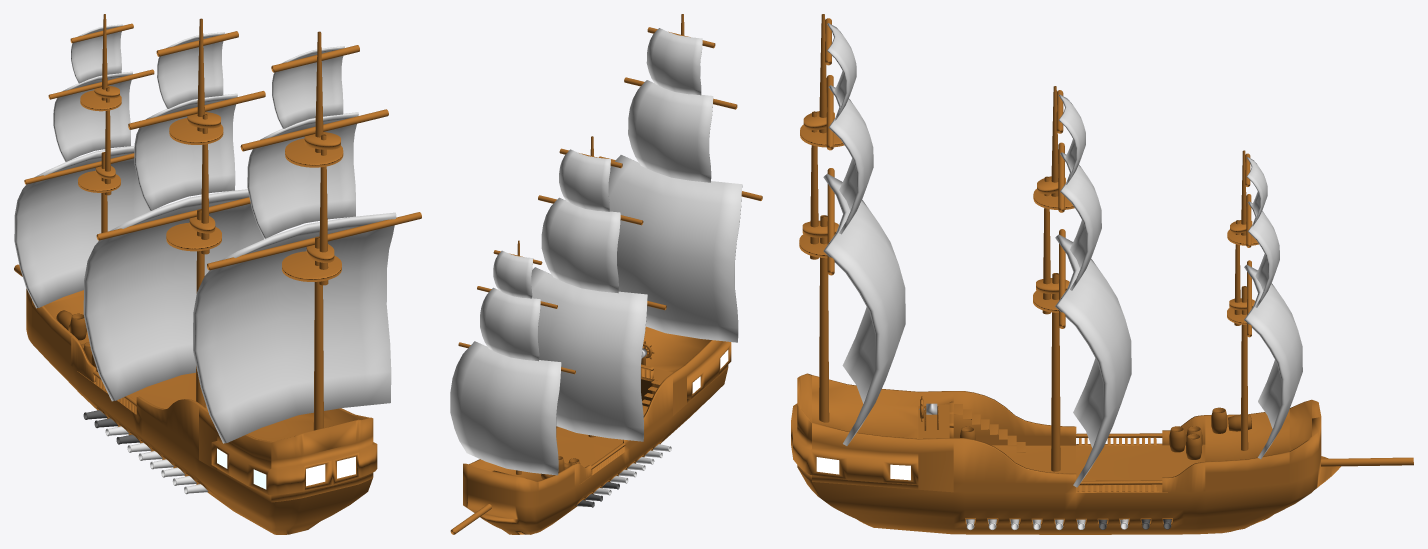
File: Barcao.fbx
The picture shows the model from 3 angles, left to right: view 1: azimuth 30°, elevation 25°; view 2: azimuth 150°, elevation 25°; view 3: azimuth 270°, elevation 25°; orthographic projection. The views are drawn at different scales.
Visible parts, largest first — view 1: Plane.009, Plane, Plane.001, Plane.006, Plane.008, Plane.002, Plane.005, Plane.007, Plane.003, Plane.004, Cylinder.019, Cylinder.030 (+20 smaller); view 2: Plane.009, Plane, Plane.001, Plane.006, Plane.008, Plane.002, Plane.005, Plane.007, Plane.003, Plane.004; view 3: Plane, Plane.009, Plane.001, Plane.006, Plane.008, Plane.002, Cylinder.030, Cylinder, Plane.005, Plane.007, Plane.003, Cylinder.016 (+2 smaller).
Boxes of the visible parts, box(x1,y1,x2,y2) form: Plane.009: box(193, 212, 396, 443); Plane: box(26, 288, 377, 534); Plane.001: box(83, 189, 263, 401); Plane.006: box(14, 145, 150, 308); Plane.008: box(247, 112, 358, 238); Plane.002: box(134, 93, 237, 210); Plane.005: box(53, 71, 132, 161); Plane.007: box(272, 46, 344, 128); Plane.003: box(157, 32, 224, 108); Plane.004: box(71, 24, 123, 83); Cylinder.019: box(207, 212, 421, 270); Cylinder.030: box(313, 236, 323, 430); Plane.009: box(608, 155, 742, 342); Plane: box(463, 326, 731, 534); Plane.001: box(531, 267, 647, 441); Plane.006: box(450, 341, 561, 475); Plane.008: box(628, 80, 713, 182); Plane.002: box(541, 197, 620, 293); Plane.005: box(480, 287, 540, 361); Plane.007: box(646, 28, 702, 95); Plane.003: box(559, 149, 610, 211); Plane.004: box(493, 250, 533, 298); Plane: box(791, 373, 1340, 534); Plane.009: box(823, 173, 905, 445); Plane.001: box(1055, 234, 1131, 487); Plane.006: box(1244, 264, 1302, 459); Plane.008: box(828, 85, 873, 234); Plane.002: box(1060, 152, 1101, 290); Cylinder.030: box(819, 215, 829, 422); Cylinder: box(1051, 273, 1060, 471); Plane.005: box(1248, 201, 1279, 307); Plane.007: box(827, 23, 856, 120); Plane.003: box(1058, 94, 1085, 184); Cylinder.016: box(1241, 286, 1248, 450).
Bounding box in the file's own units: 654 × 1548 × 1700.
